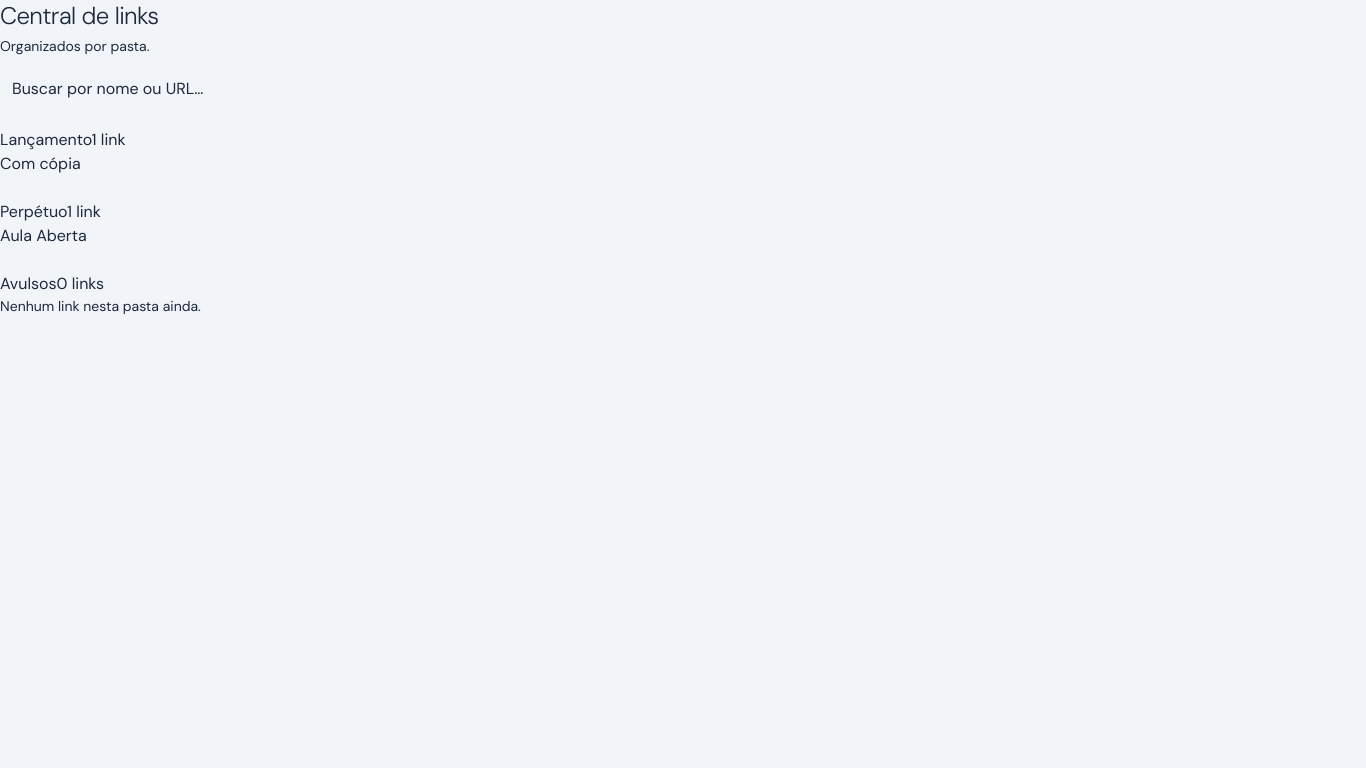
it: Central de links: página arquivada › cópia inativa não oferece endereço nem abrir página; membro não remove, mas vê a cópia
Check: the element named "Pastas" is shown, box [0,128,201,315]
Click the button "Lançamento1 link": [63, 140] box [0,128,126,152]
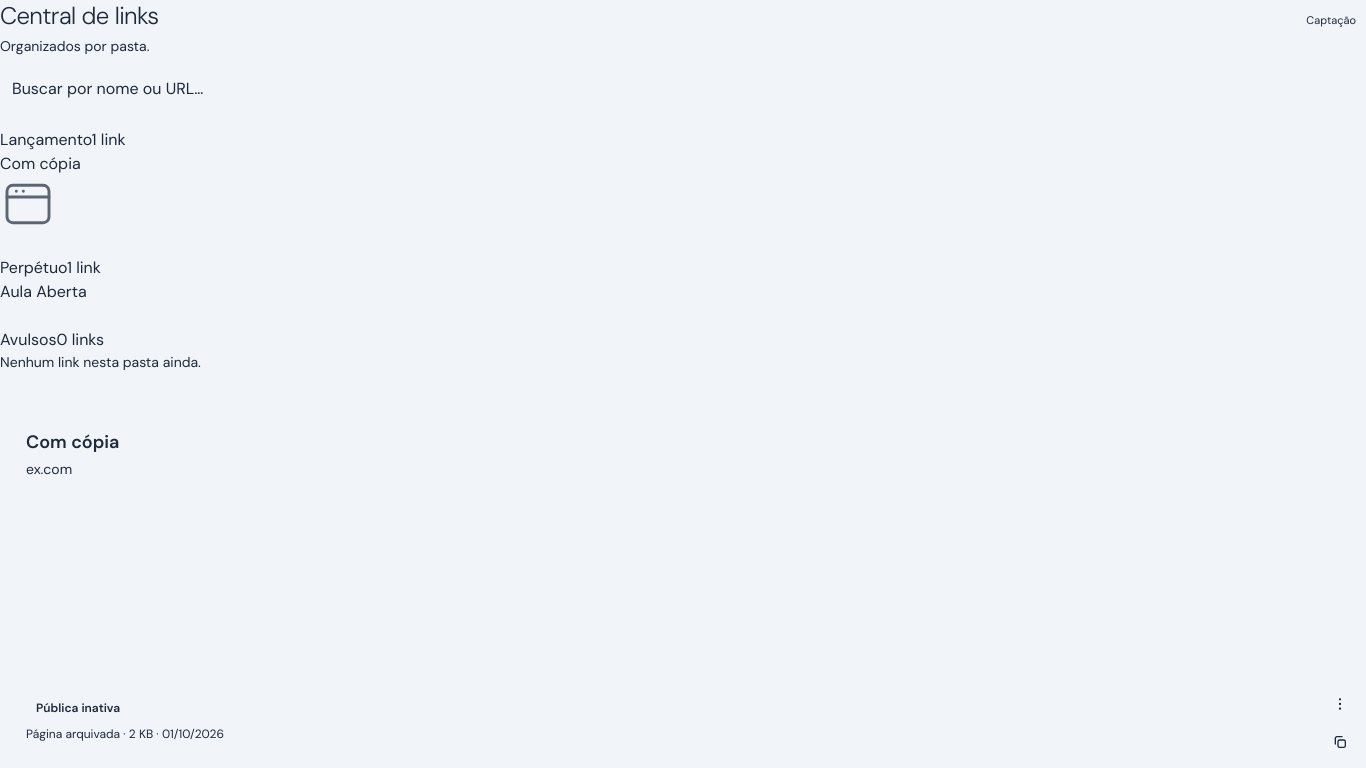
Check: the text "Pública inativa" is shown, box [36,700,120,716]
Click the button named "Mais ações de Com cópia": [1340, 704] box [1324,688,1356,720]
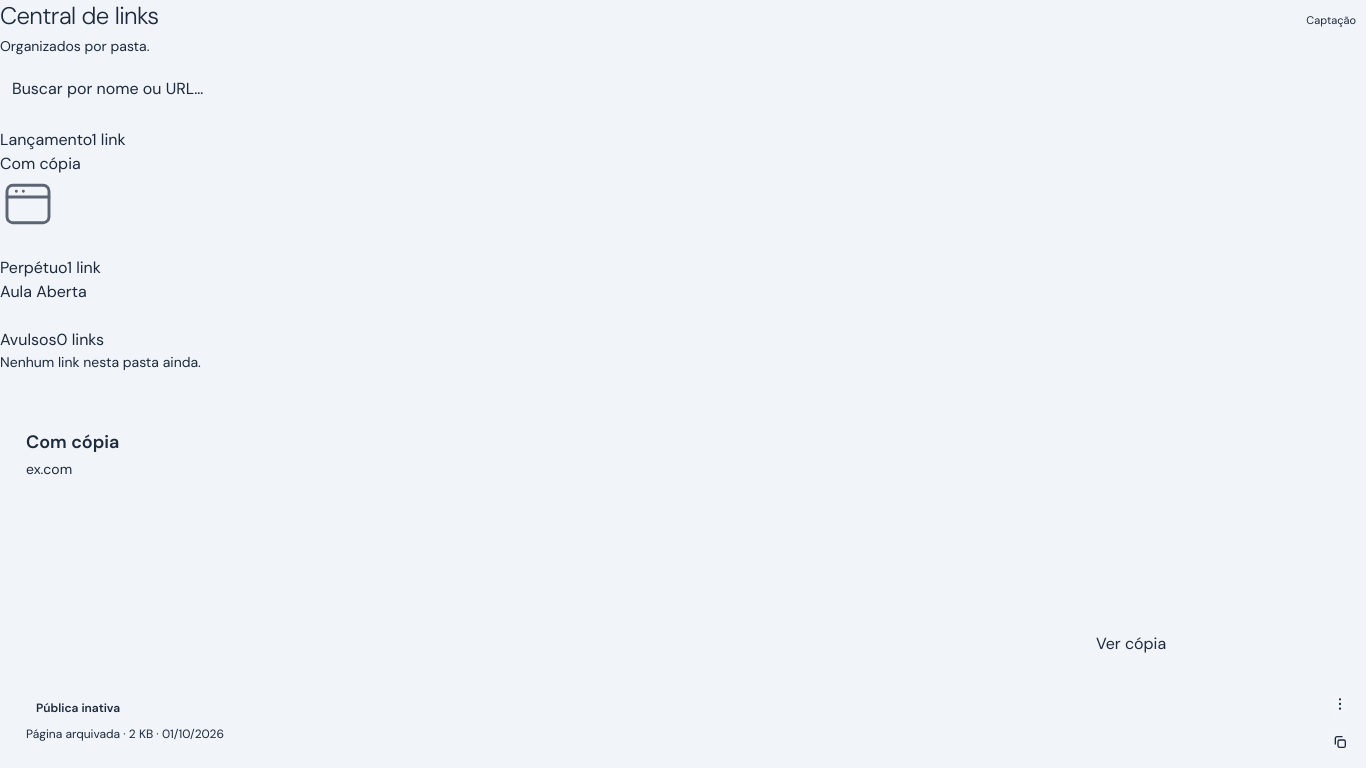
Check: the button "Ver cópia" is shown, box [1084,624,1340,664]
